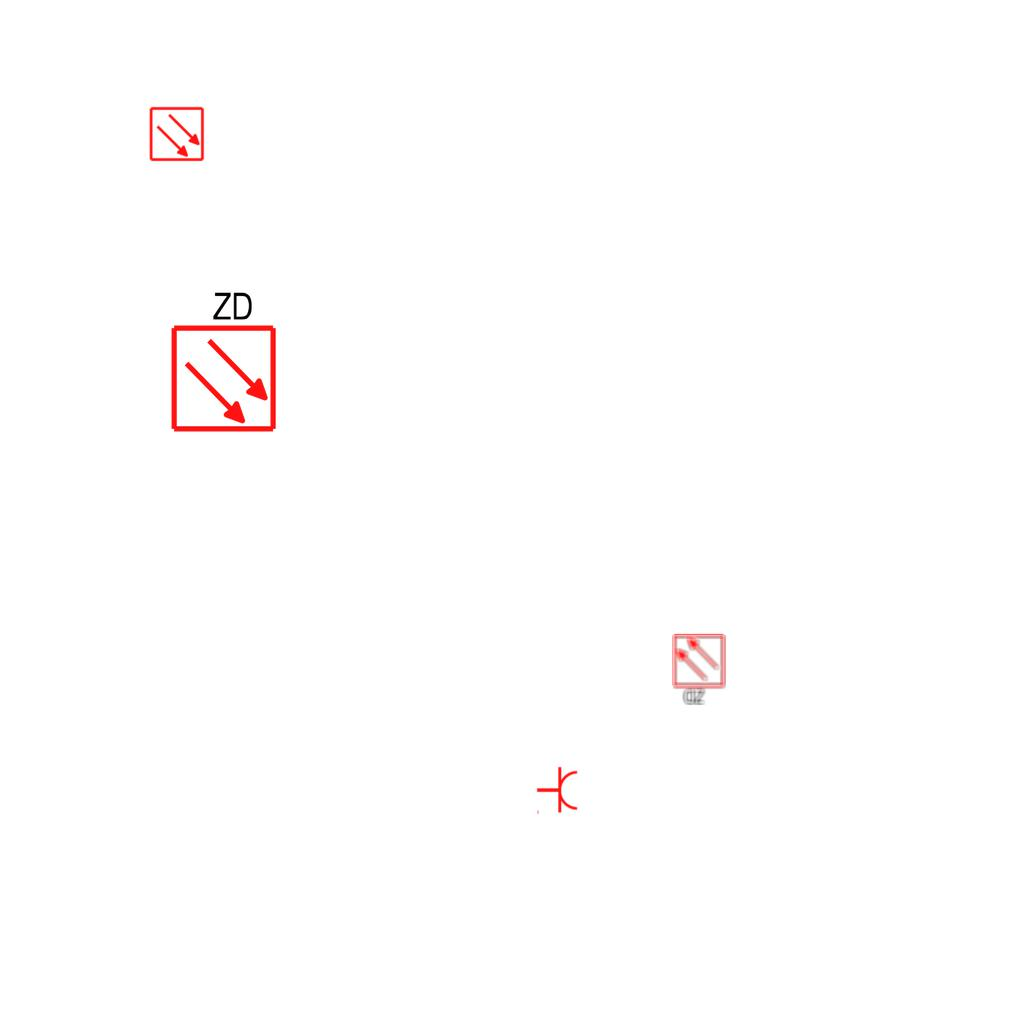RMO_Rauchmelder_optischer: (149, 106, 205, 162)
Schukosteckdose_einfach: (536, 766, 579, 816)
ZD_Melder_in_Zwischendecke_mit_Revisionsoeffnung_mind_40_x_40_cm: (165, 285, 279, 434), (671, 633, 728, 707)
